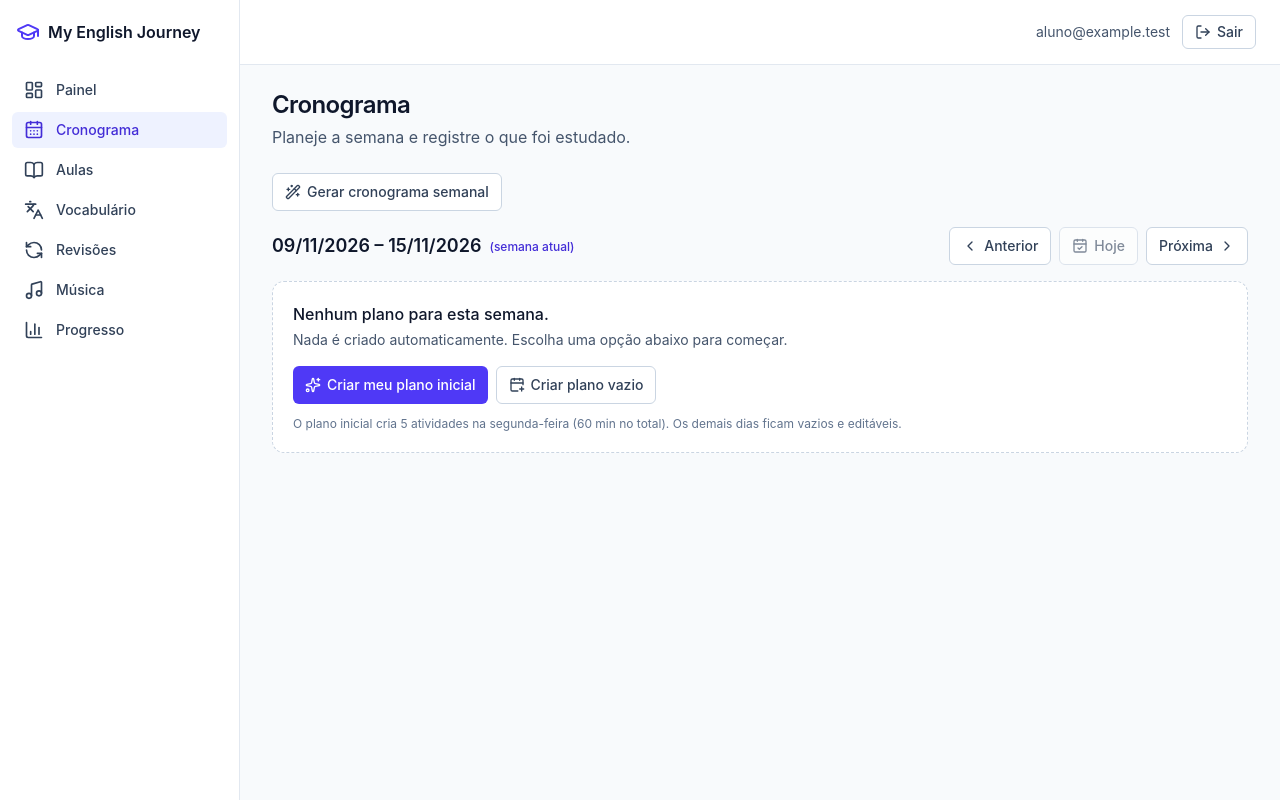
Cronograma — navegação e estados › 4. plano inicial cria 5 atividades na segunda (60 min) e nada nos outros dias; repetir não duplica
Click the button "Criar meu plano inicial" at (390, 385), box [293,366,488,404]
(page scrolled)
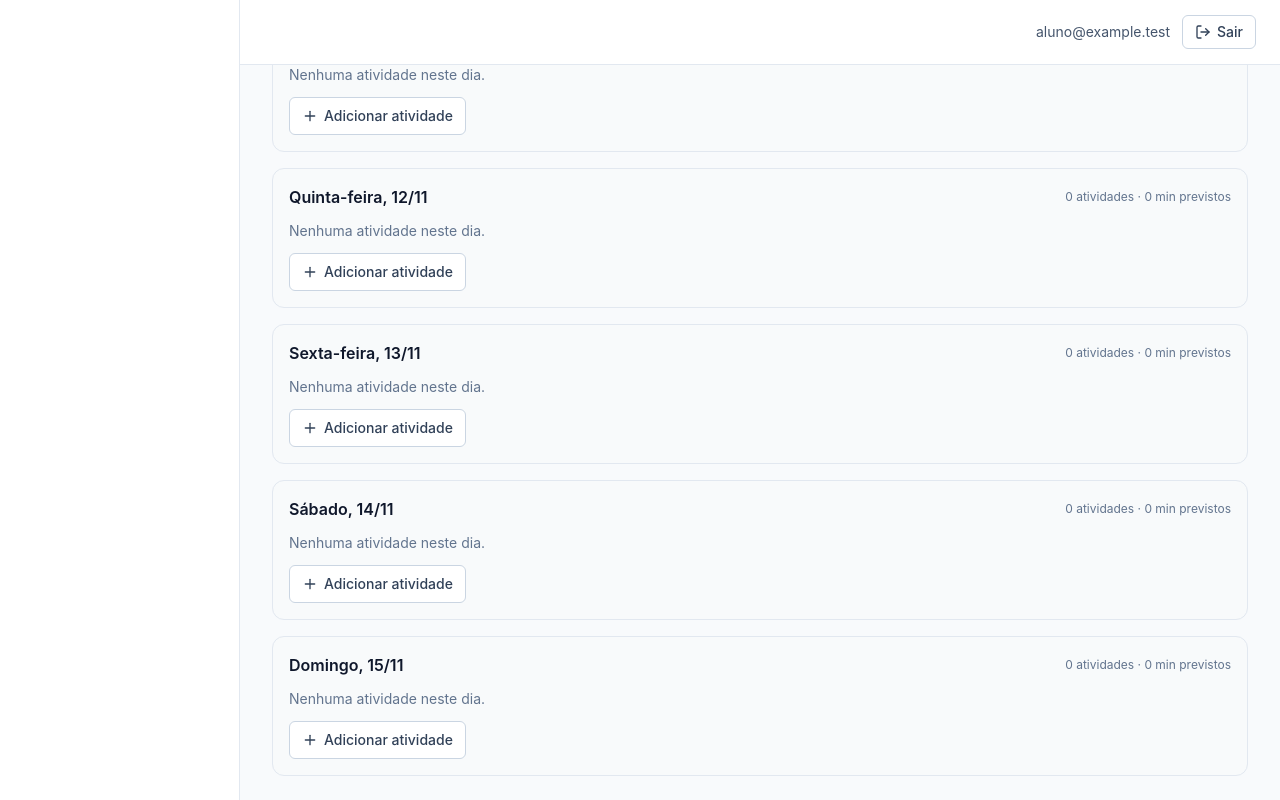
expect the text "Nenhuma atividade neste dia." below "quarta-feira, 11/11" is shown: met, box [289,66,485,83]
expect the text "Nenhuma atividade neste dia." below "quinta-feira, 12/11" is shown: met, box [289,222,485,239]
expect the text "Nenhuma atividade neste dia." below "sexta-feira, 13/11" is shown: met, box [289,378,485,395]
